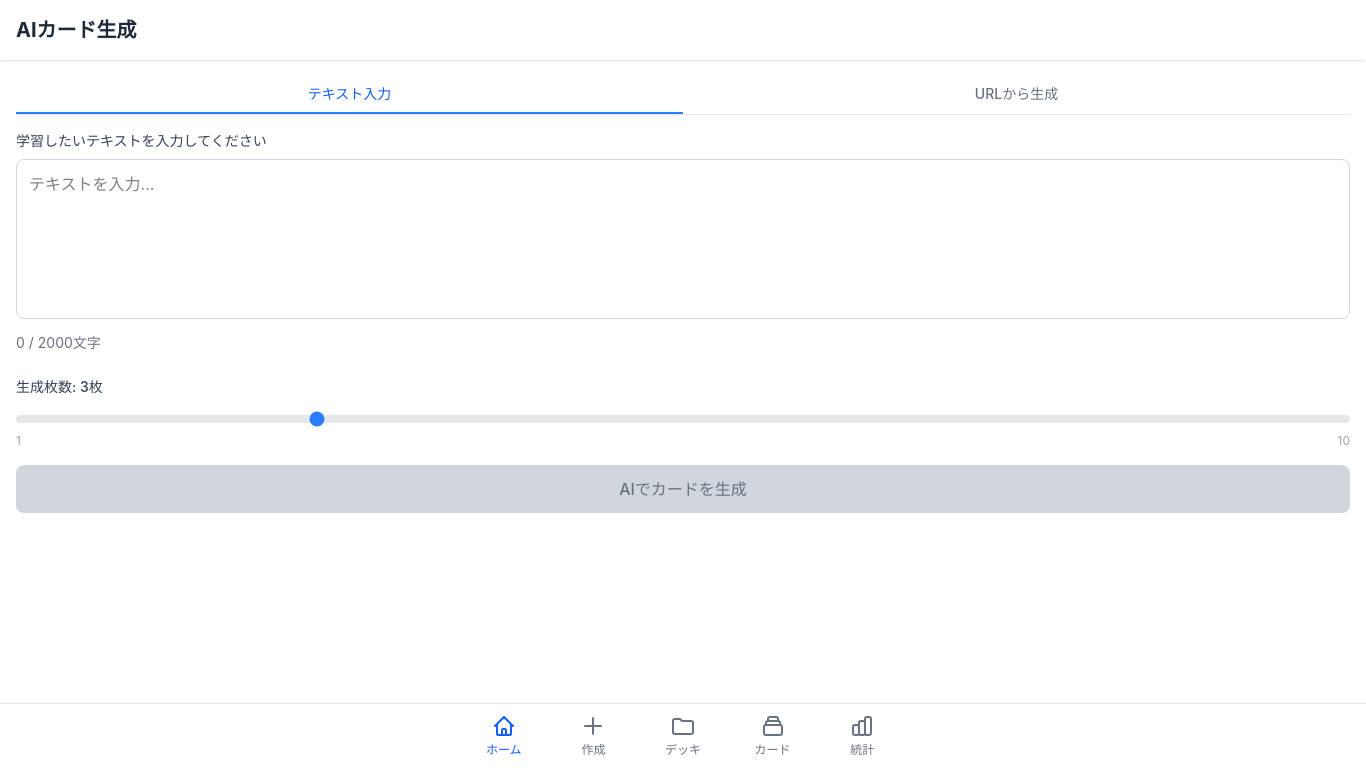
GeneratePage › テストケース5: カード候補の表示 › 生成されたカード数が表示される
The width and height of the screenshot is (1366, 768).
Type "テスト用のテキストです" into the text box with test id "input-text" at {"x": 683, "y": 239}, box [16,159,1350,319]
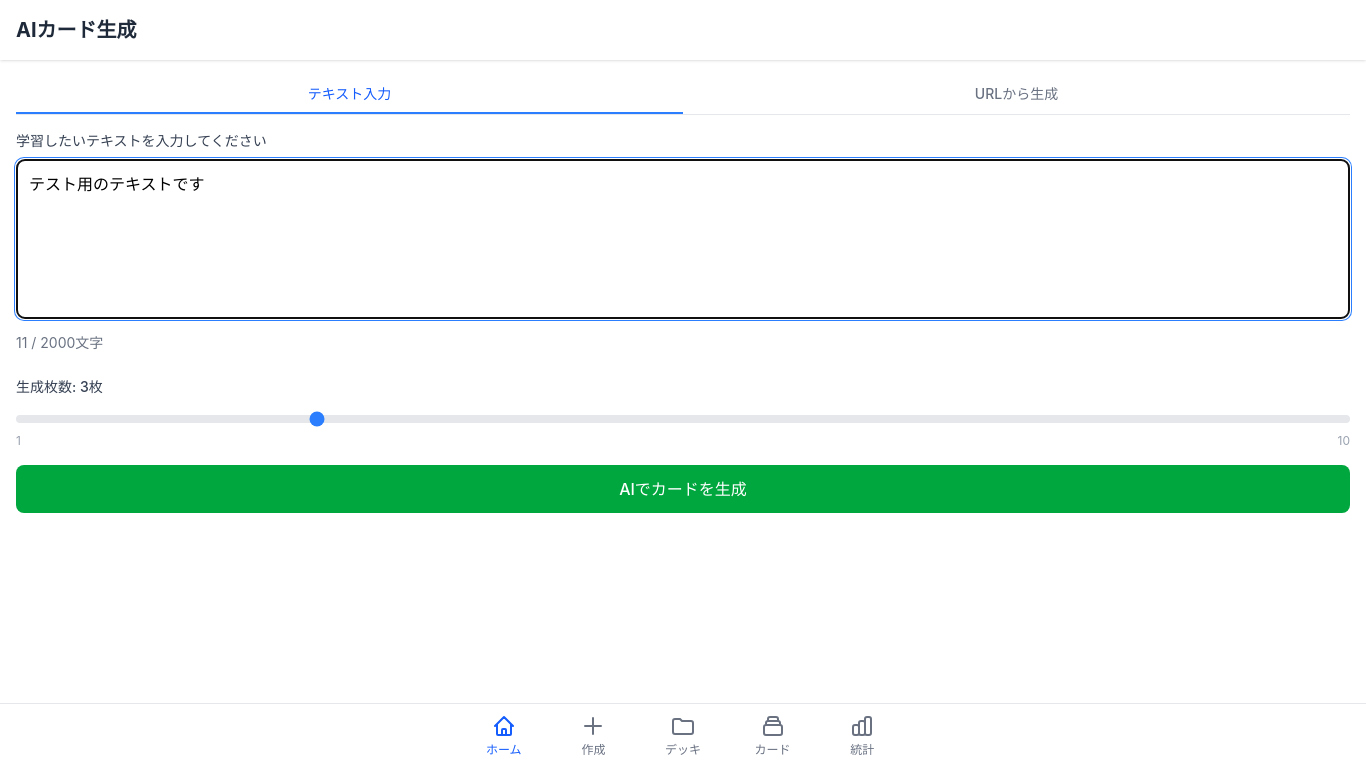
Click the button with test id "generate-button" at {"x": 683, "y": 489}, box [16,465,1350,513]
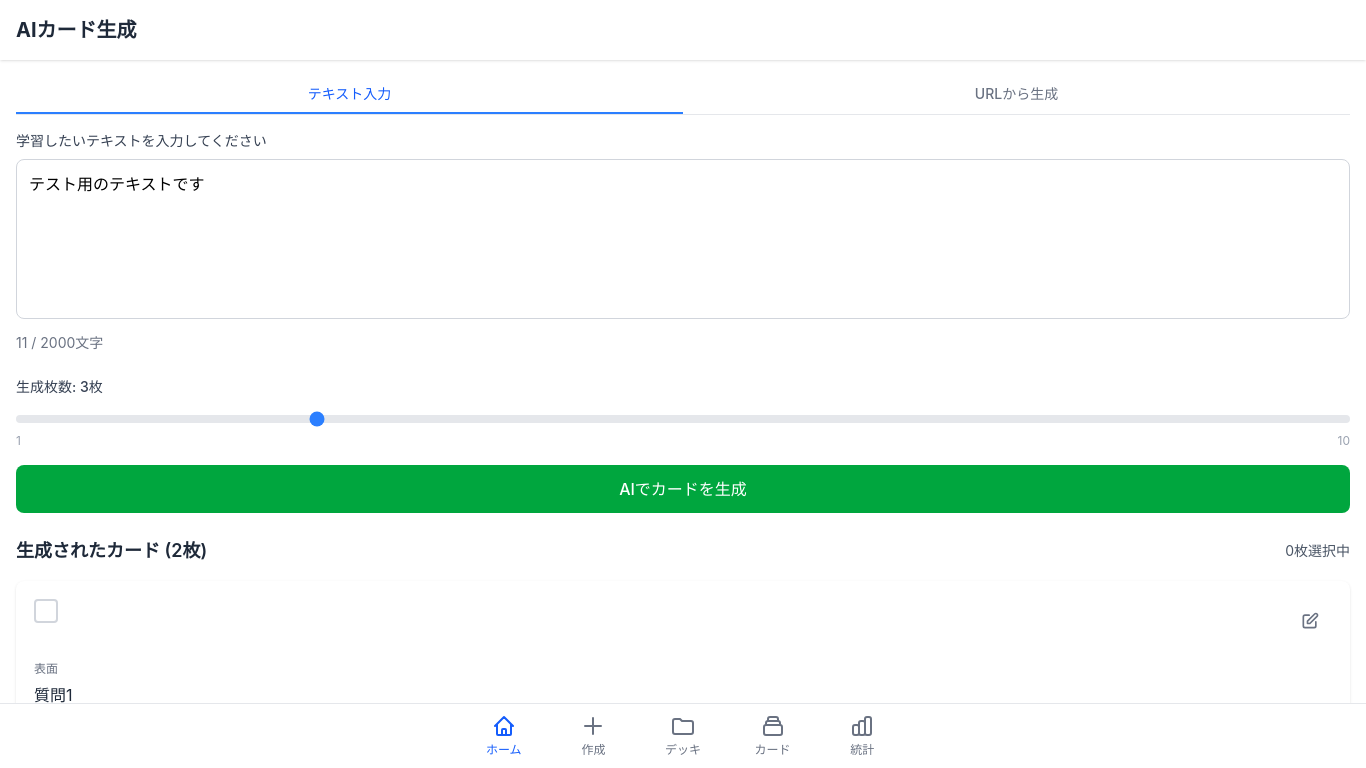
Result: the heading "生成されたカード (2枚)" is shown at [16,537,207,565]
